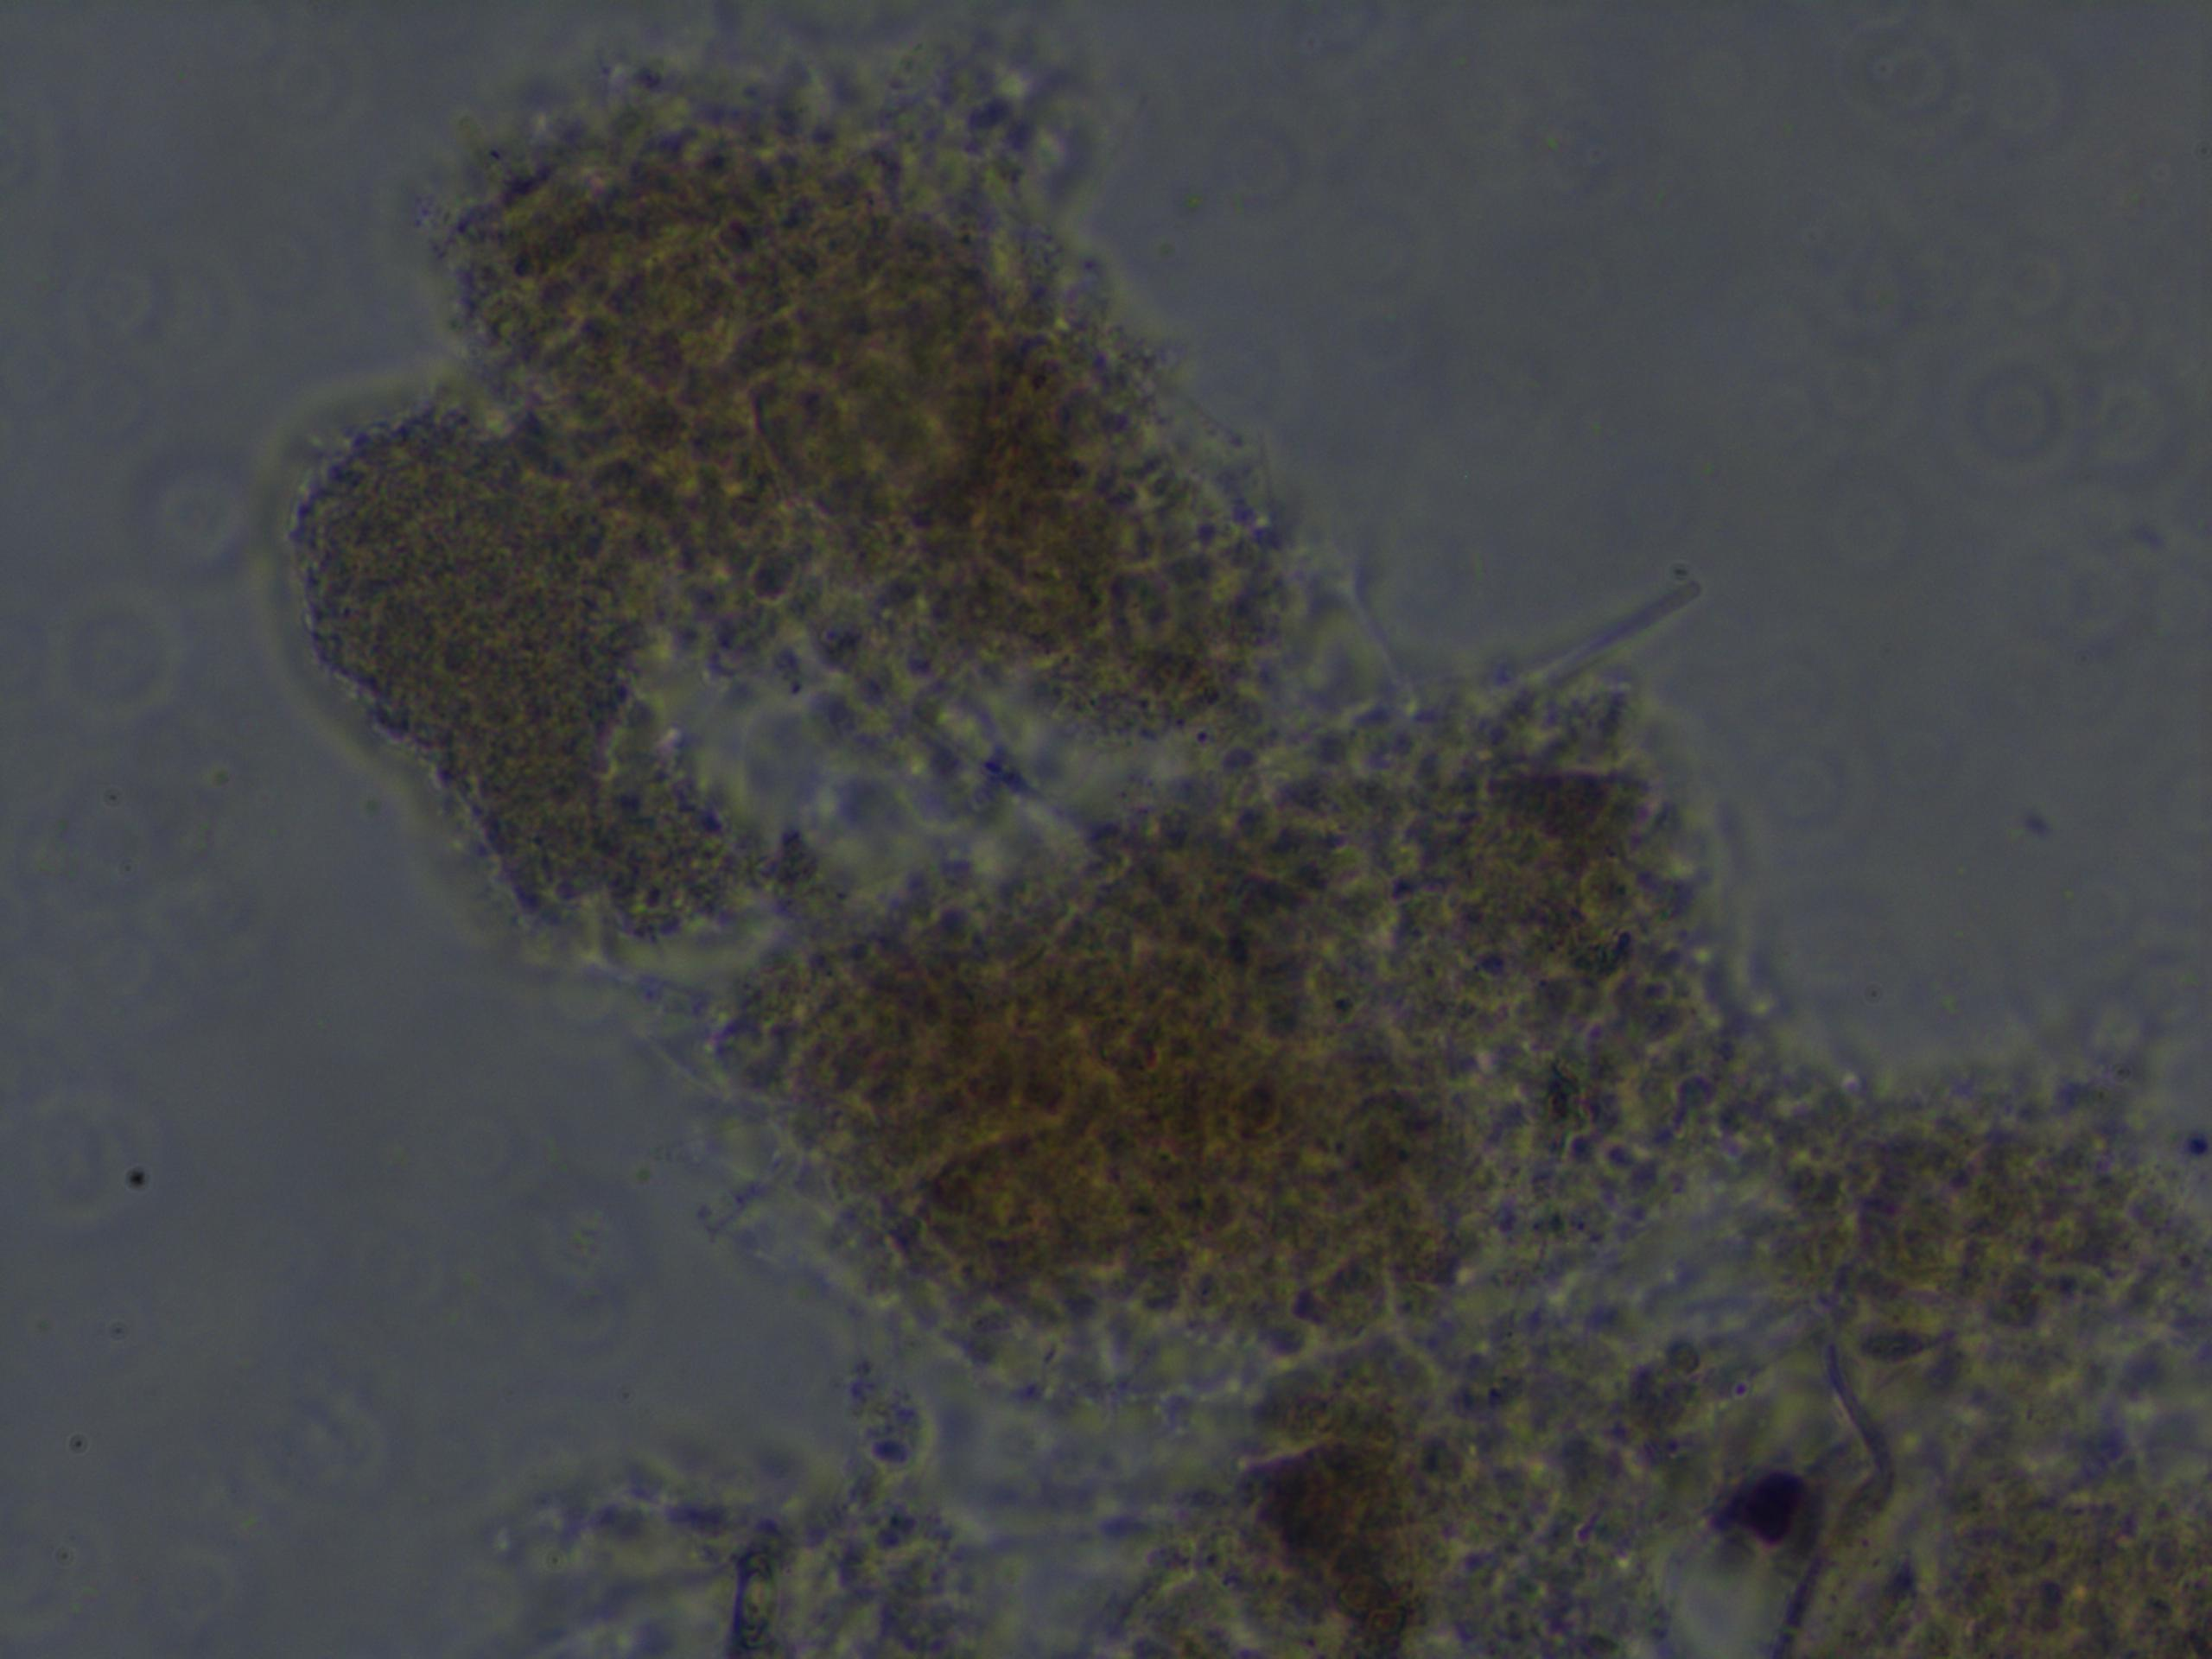open_floc: (284, 54, 2212, 1659)
